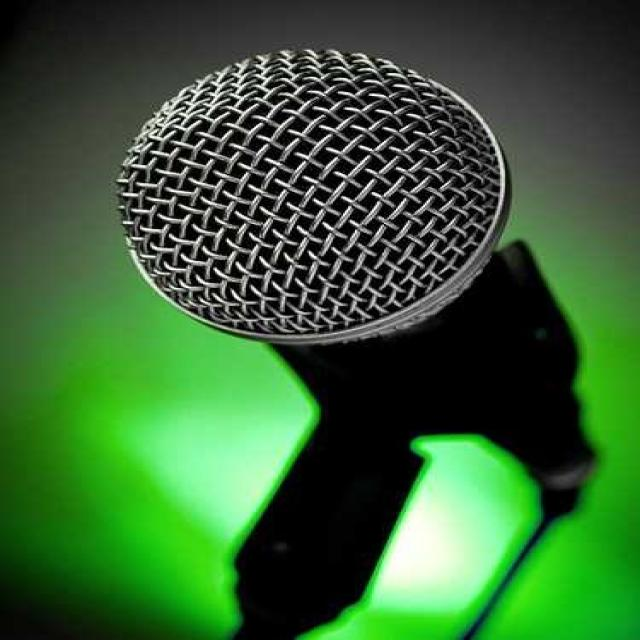microphone: (116, 48, 583, 635)
